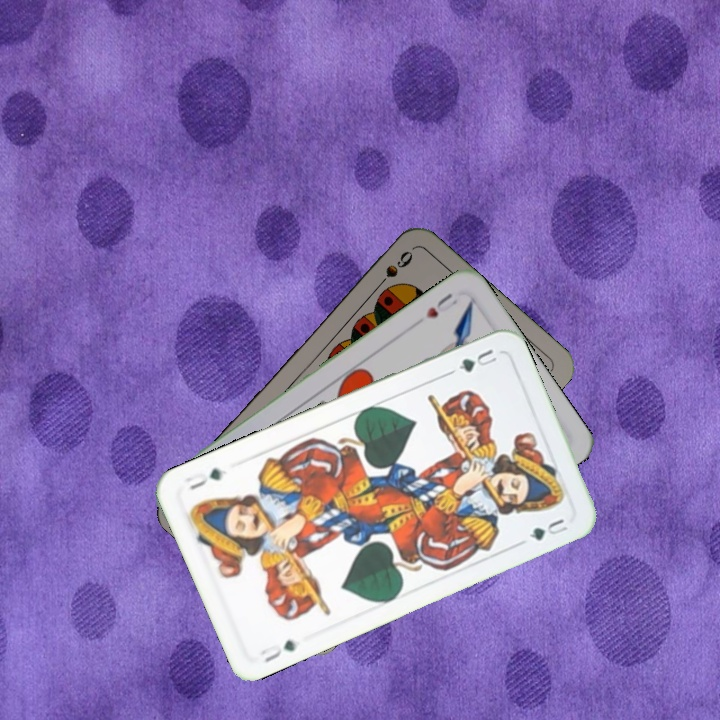GU: (454, 344, 500, 375), (255, 635, 298, 665)
HU: (421, 289, 461, 321)
S9: (370, 246, 416, 294)
